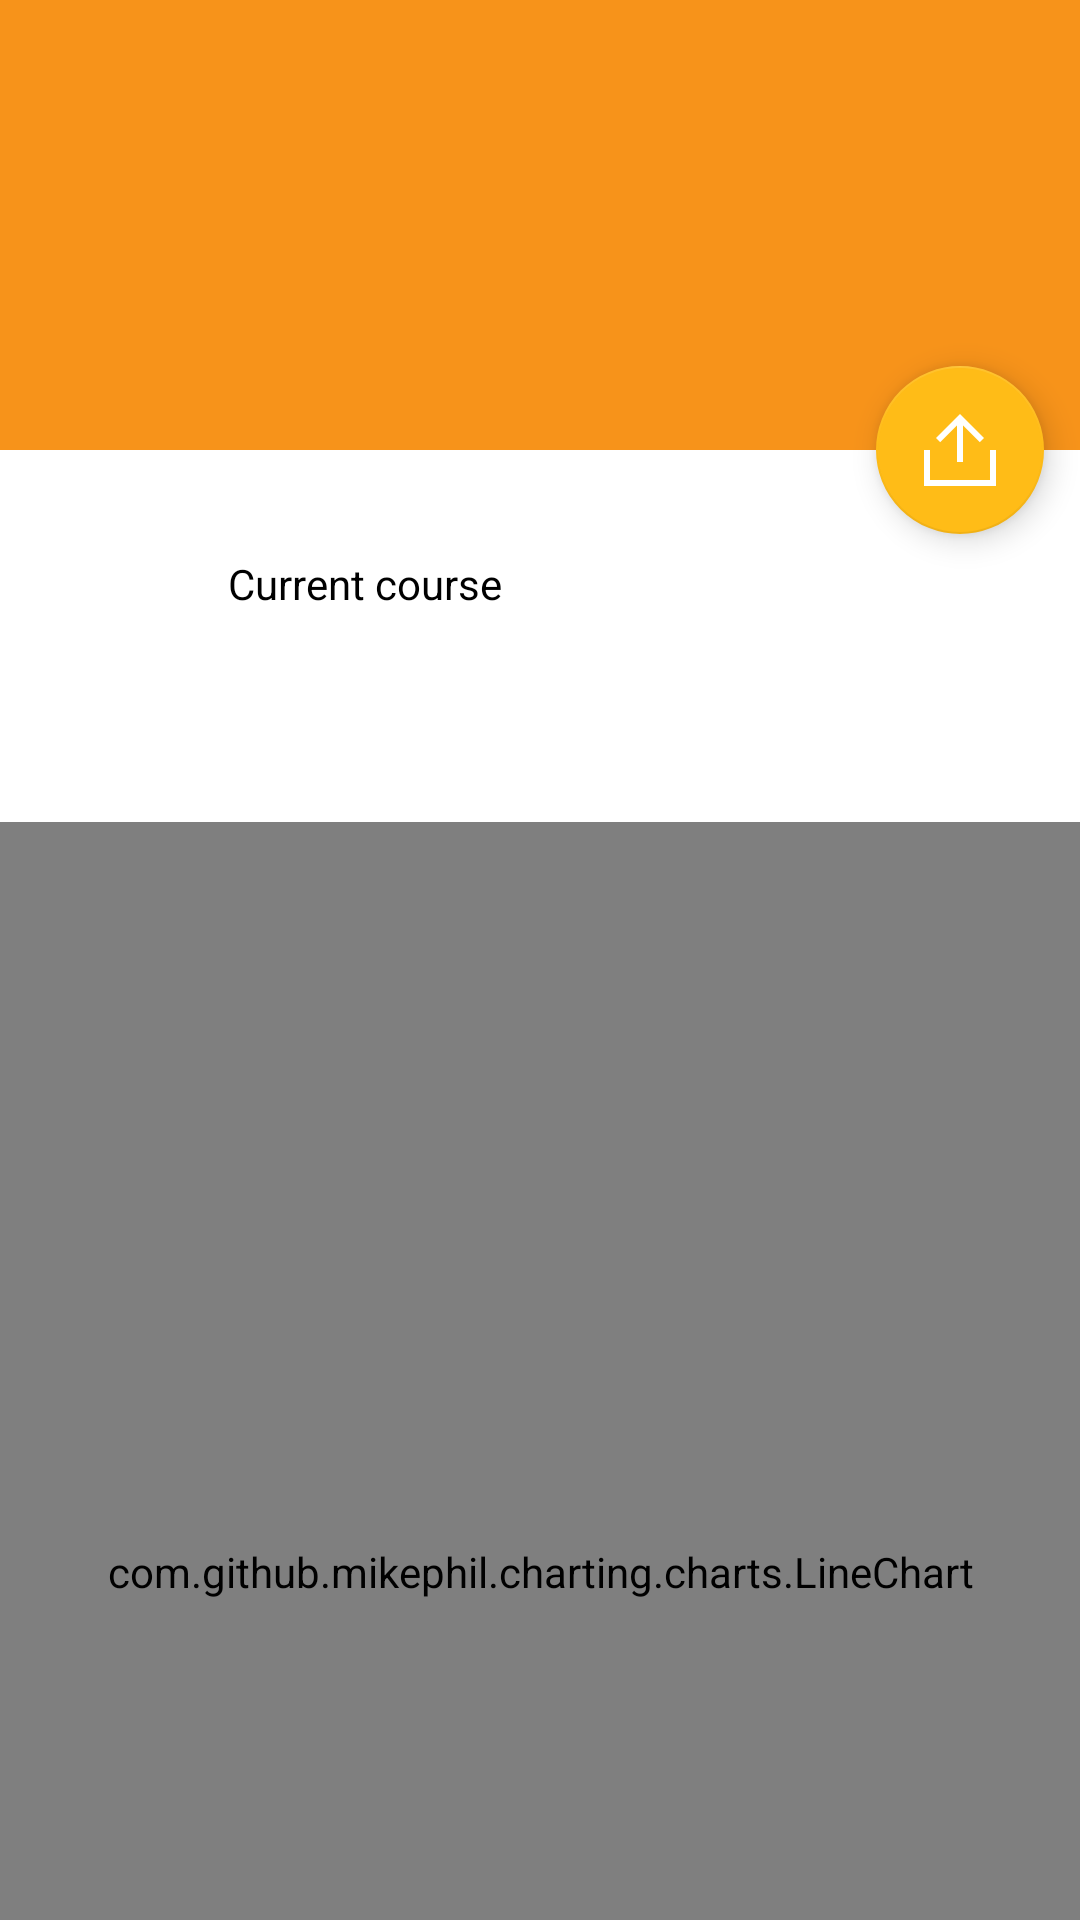

Point at icon controls on the screen. Image size 1080w x 1920h, points as (x,y).
share: (960,450)
